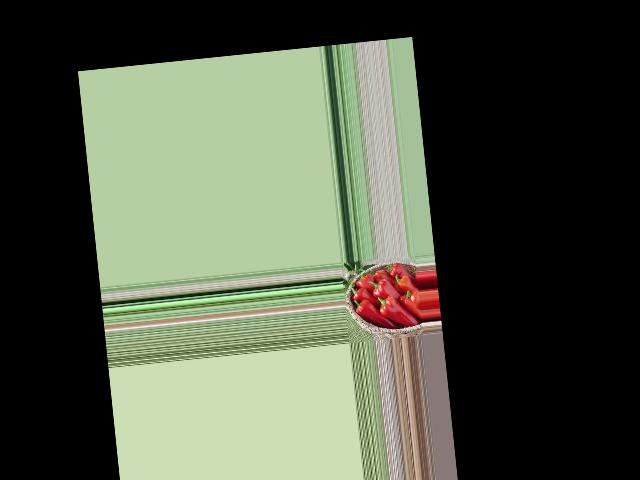bell_pepper: (348, 284, 371, 303)
